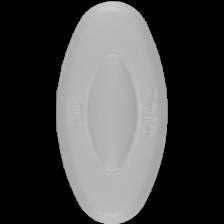49999-872: (0, 0, 224, 224)
